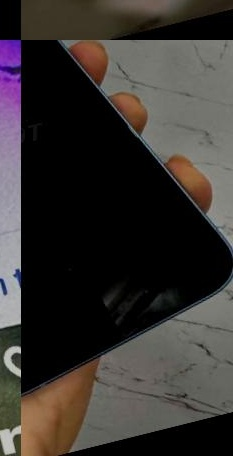scratch: (60, 255, 93, 285), (139, 278, 163, 302)
screen_defect: (0, 40, 21, 165)
